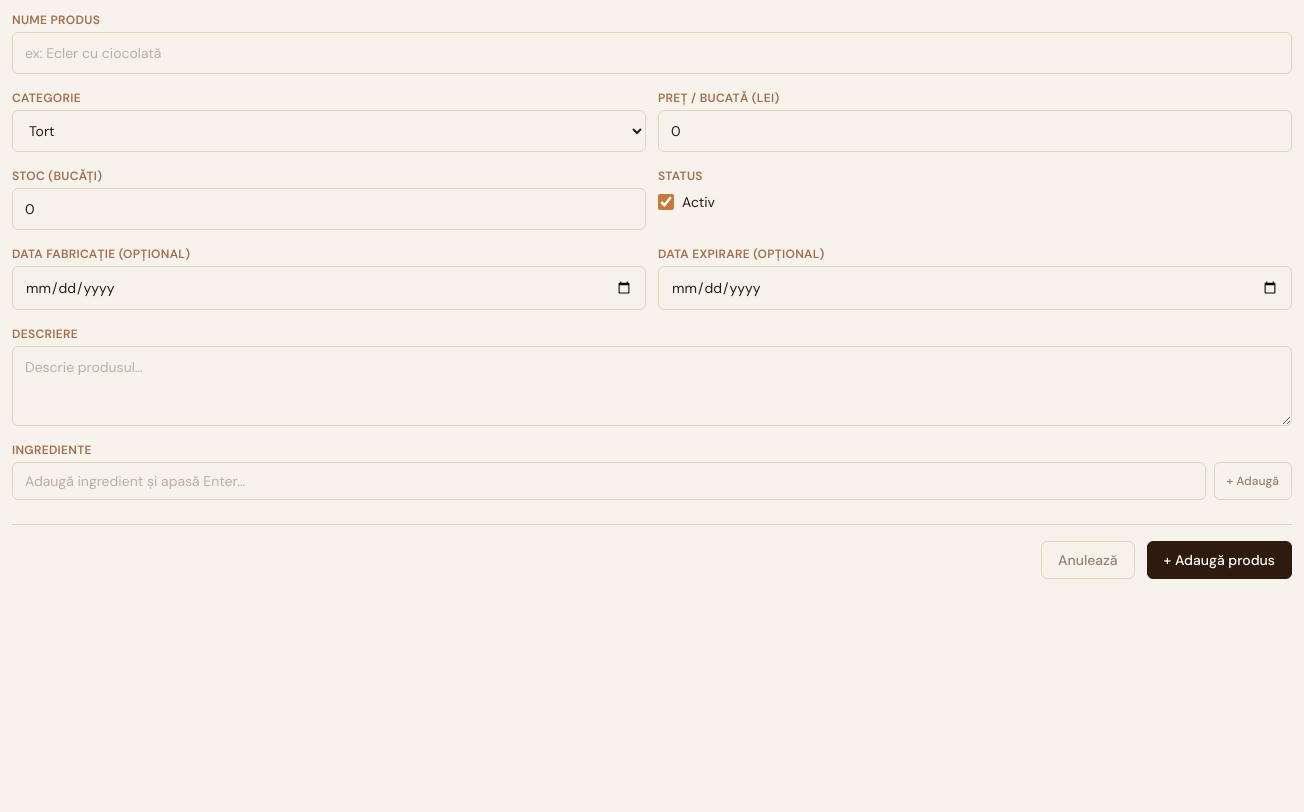
it: ProductForm — ingredients › adds an ingredient via "+ Adaugă" button
The width and height of the screenshot is (1304, 812).
Type "Unt" into the field with test id "ingredient-input".
click(609, 481); type("Unt")  # box [12, 462, 1206, 500]
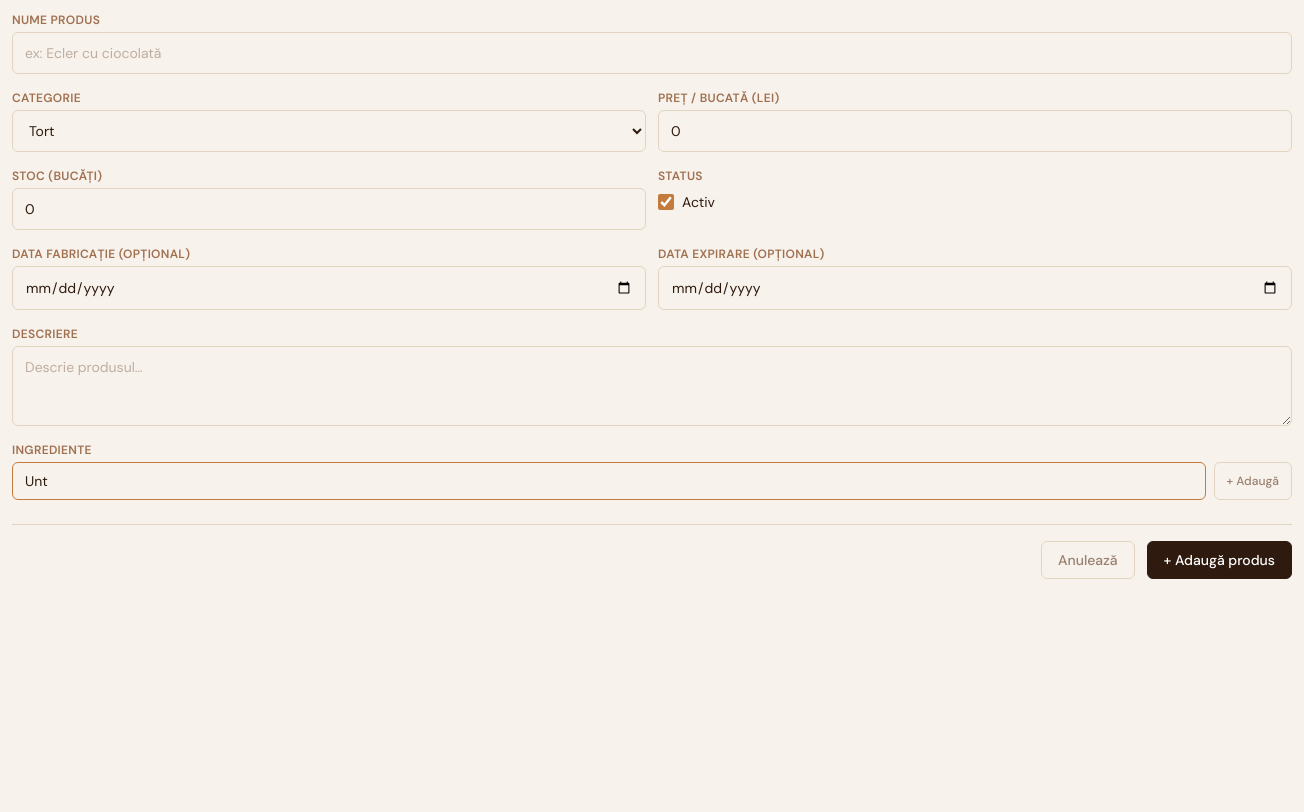
Click the button "+ Adaugă".
click(1253, 481)  # box [1214, 462, 1292, 500]
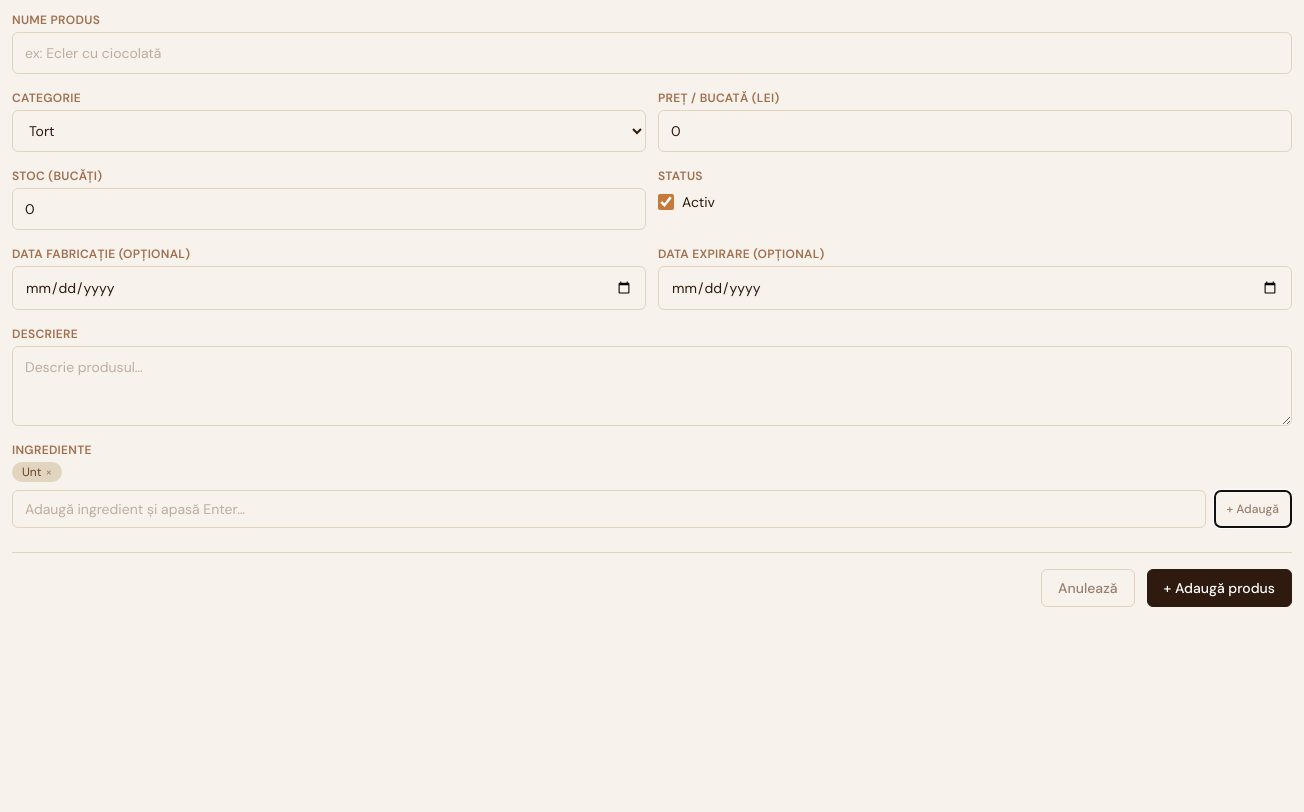
Result: the text "Unt" is shown at [22, 464, 42, 480]
